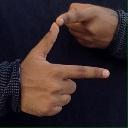hand: (18, 21, 110, 117), (55, 2, 118, 49)
